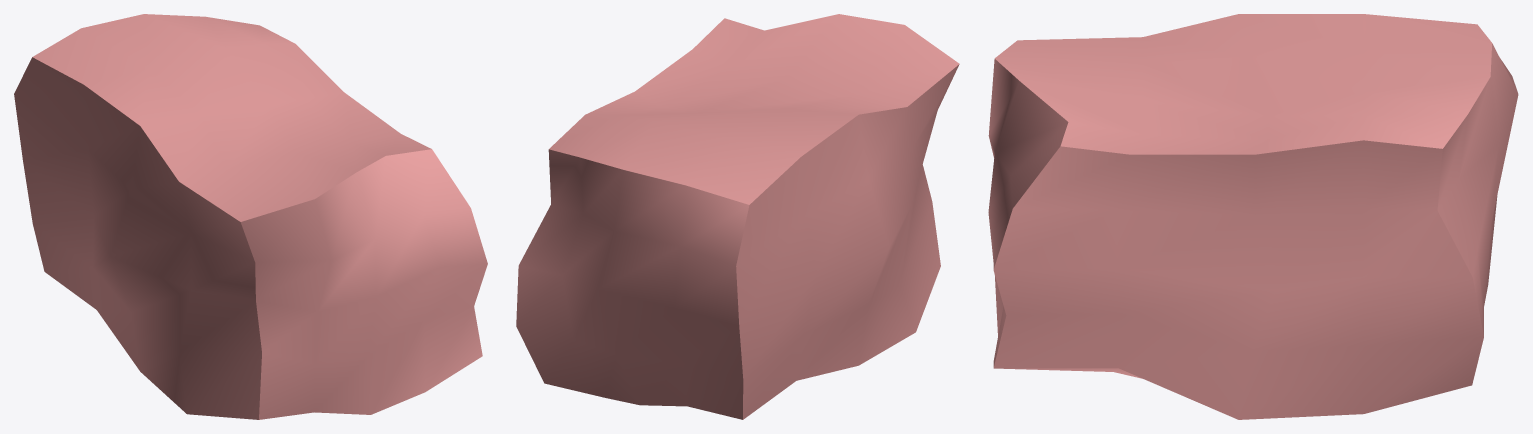
File: Plastico.fbx
3 renders of one model, left to right at view 1: azimuth 30°, elevation 25°; view 2: azimuth 150°, elevation 25°; view 3: azimuth 270°, elevation 25°, orthographic. The views are drawn at different scales.
Visible parts, largest first — view 1: Plastico; view 2: Plastico; view 3: Plastico.
Boxes of the visible parts, box(x1,y1,x2,y2) form: Plastico: box(14, 14, 487, 419); Plastico: box(516, 14, 959, 419); Plastico: box(988, 14, 1518, 419).
Size of the model in its own units: 17.6 by 15.28 by 26.41.
